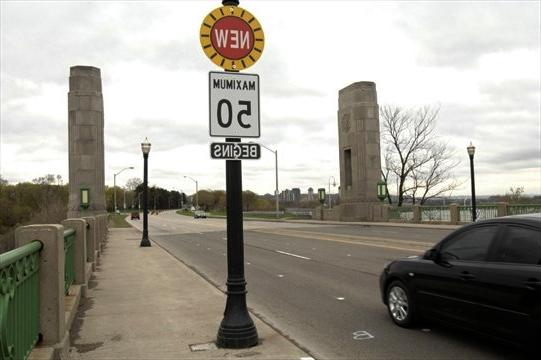speed limit sign: (211, 73, 259, 137)
